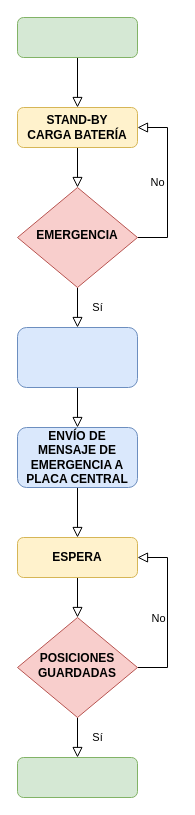
The diagram is 195 pixels wide and 815 high, and some of its shapes have lost their labels. The centre of each missing label's shape, as x and y in pixels:
ACTIVACIÓN SUMINISTRO POR BATERÍA: the point at 77,357
APAGADO DEL ROBOT: the point at 77,777
INICIO: the point at 77,37
